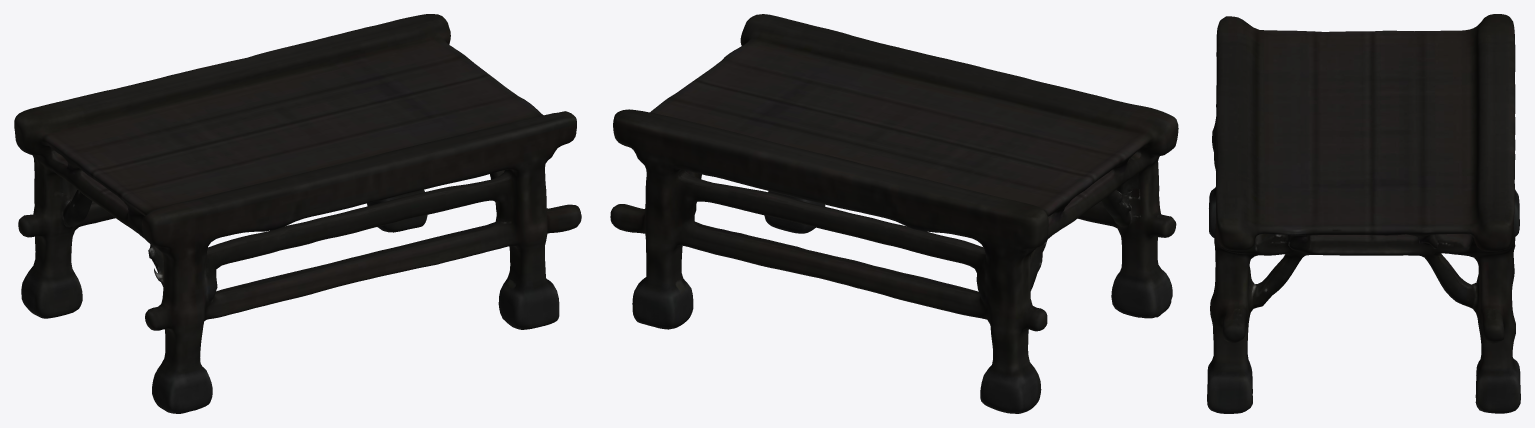
The model's file is 9335fc793bdb_Benches_and_Tables_.fbx.
3 renders of one model, left to right at view 1: azimuth 30°, elevation 25°; view 2: azimuth 150°, elevation 25°; view 3: azimuth 270°, elevation 25°, orthographic.
Visible parts, largest first — view 1: mesh; view 2: mesh; view 3: mesh.
Part boxes in pixels (x1,y1,x2,y2): mesh: (14, 14, 581, 413); mesh: (610, 14, 1178, 413); mesh: (1207, 14, 1520, 413).
Bounding box in the file's own units: 99.84 × 44.51 × 61.59.
